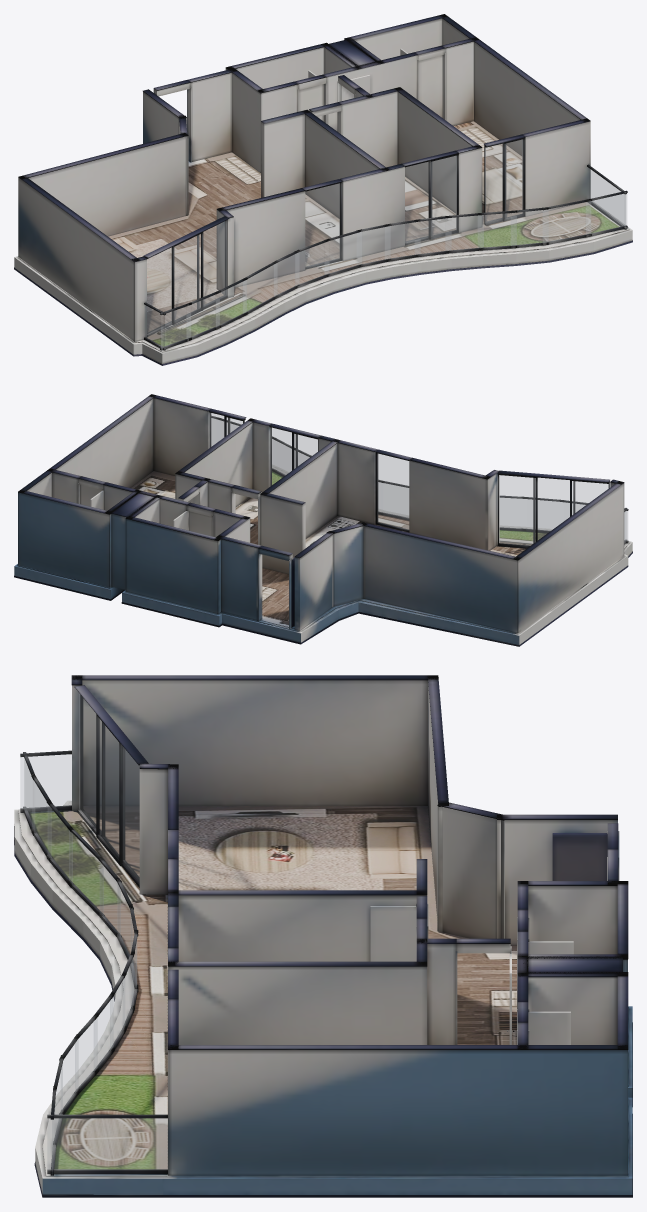
The picture shows the model from 3 angles, top to bottom: view 1: azimuth 30°, elevation 25°; view 2: azimuth 150°, elevation 25°; view 3: azimuth 270°, elevation 25°; orthographic projection. The views are drawn at different scales.
Visible parts, largest first — view 1: plan, glass0_m, glass2_m, glass3_m, glass1_m, railg2_m, railg1_m, railg4_m, railg5_m, railg3_m, railg9_m, railg6_m (+10 smaller); view 2: plan, glass0_m, glass1_m, glass2_m, railg13_m, railg9_m, railg12_m, glass3_m, railg4_m; view 3: plan, railg0_m, glass0_m, railg16_m, railg12_m, railg13_m, railg4_m, railg11_m, railg5_m, railg14_m, railg3_m, railg6_m (+1 smaller).
Boxes of the visible parts, x1,y1,x2,y2 form: plan: (14, 14, 632, 365); glass0_m: (147, 221, 226, 333); glass2_m: (405, 156, 456, 242); glass3_m: (485, 139, 522, 222); glass1_m: (305, 183, 339, 266); railg2_m: (543, 201, 590, 242); railg1_m: (586, 194, 626, 234); railg4_m: (478, 213, 516, 247); railg5_m: (445, 215, 483, 250); railg3_m: (511, 210, 548, 245); railg9_m: (324, 232, 361, 274); railg6_m: (415, 218, 451, 254); plan: (14, 394, 632, 646); glass0_m: (499, 475, 608, 545); glass1_m: (377, 454, 408, 529); glass2_m: (270, 427, 317, 485); railg13_m: (527, 499, 558, 530); railg9_m: (384, 483, 408, 517); railg12_m: (500, 498, 521, 528); glass3_m: (209, 413, 242, 447); railg4_m: (276, 441, 291, 474); plan: (14, 675, 632, 1197); railg0_m: (47, 1118, 167, 1169); glass0_m: (79, 693, 139, 881); railg16_m: (20, 754, 71, 808); railg12_m: (69, 830, 103, 914); railg13_m: (48, 805, 72, 883); railg4_m: (75, 1018, 97, 1092); railg11_m: (100, 862, 120, 935); railg5_m: (94, 997, 113, 1071); railg14_m: (32, 779, 51, 857); railg3_m: (61, 1039, 78, 1112); railg6_m: (110, 978, 124, 1050).
Size of the model in its own units: 14.53 by 2.62 by 10.05.
2 materials, 1 textured.
